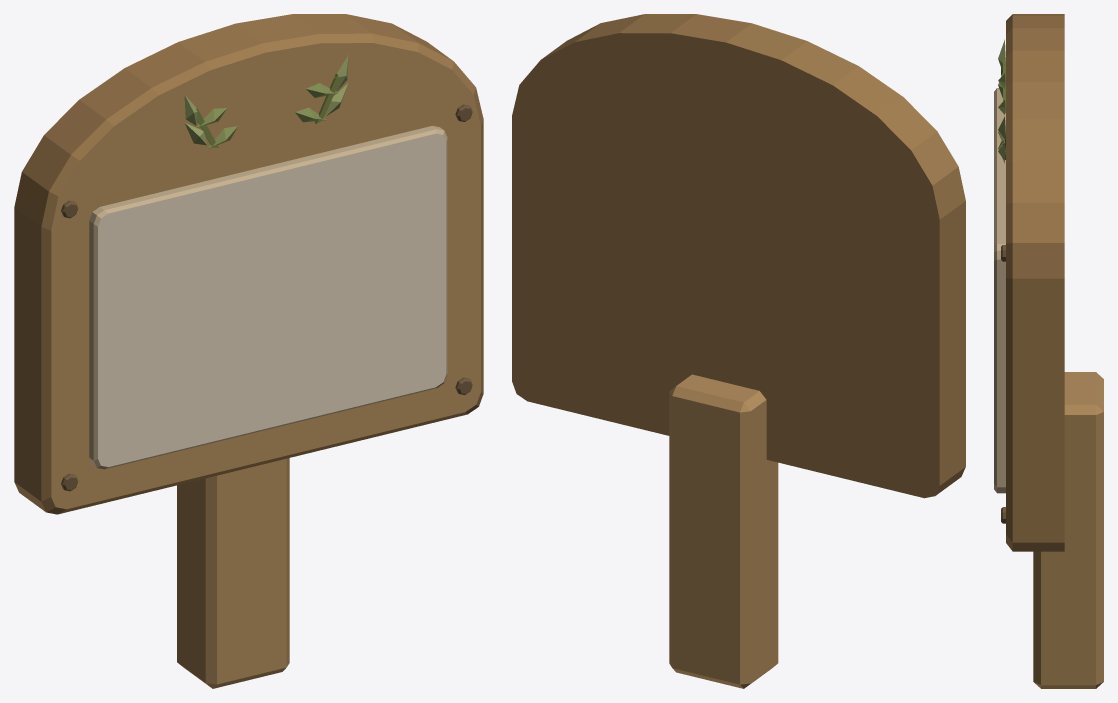
The model's file is upgrade_plaque.glb.
The picture shows the model from 3 angles, left to right: view 1: azimuth 30°, elevation 25°; view 2: azimuth 150°, elevation 25°; view 3: azimuth 270°, elevation 25°; orthographic projection. The views are drawn at different scales.
Parts seen in each view (by area): view 1: upgrade_plaque; view 2: upgrade_plaque; view 3: upgrade_plaque.
Boxes of the visible parts, <box> form: upgrade_plaque: <box>14,14,483,688</box>; upgrade_plaque: <box>512,14,965,688</box>; upgrade_plaque: <box>994,14,1103,688</box>.
Size of the model in its own units: 0.5 by 0.7 by 0.112.
